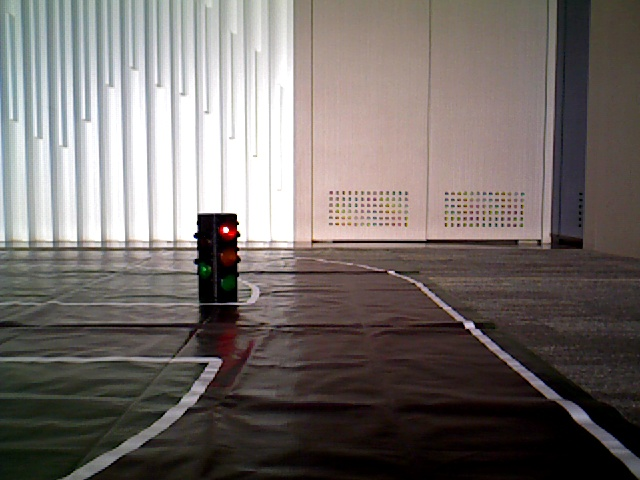red: (207, 216, 236, 293)
